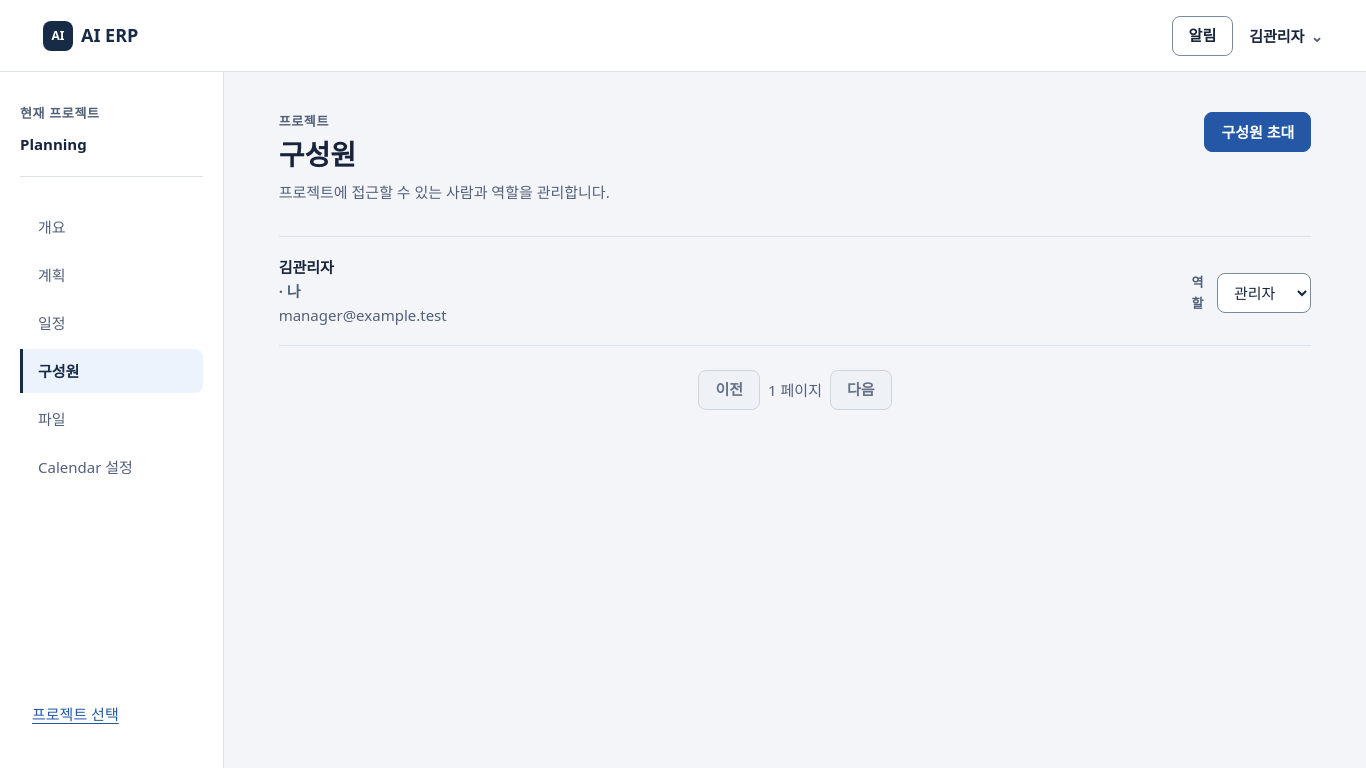
expired share invitations do not expose a code or copy actions
The image size is (1366, 768).
Click the button "구성원 초대": (1258, 132) top-left (1204, 112), bottom-right (1311, 152)
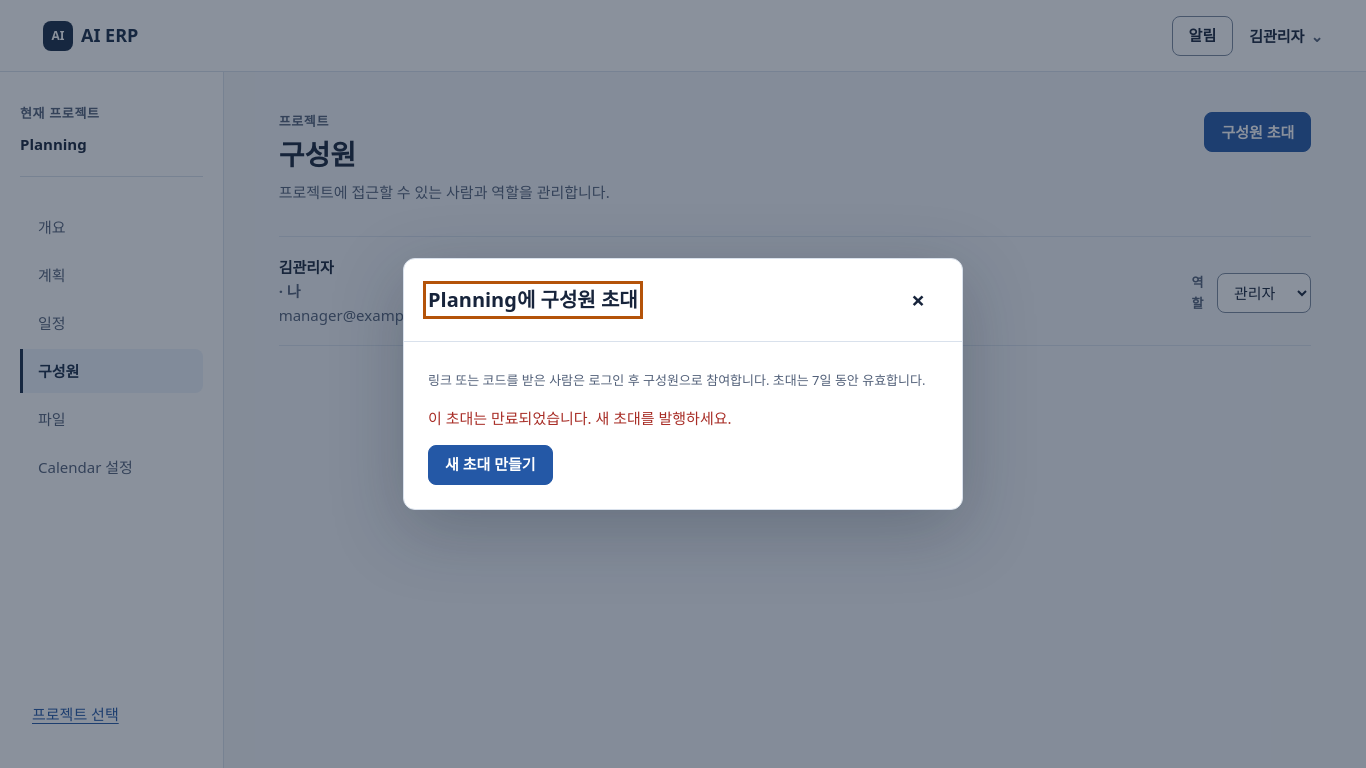
Result: the text "이 초대는 만료되었습니다. 새 초대를 발행하세요." is shown at top-left (428, 408), bottom-right (732, 428)
